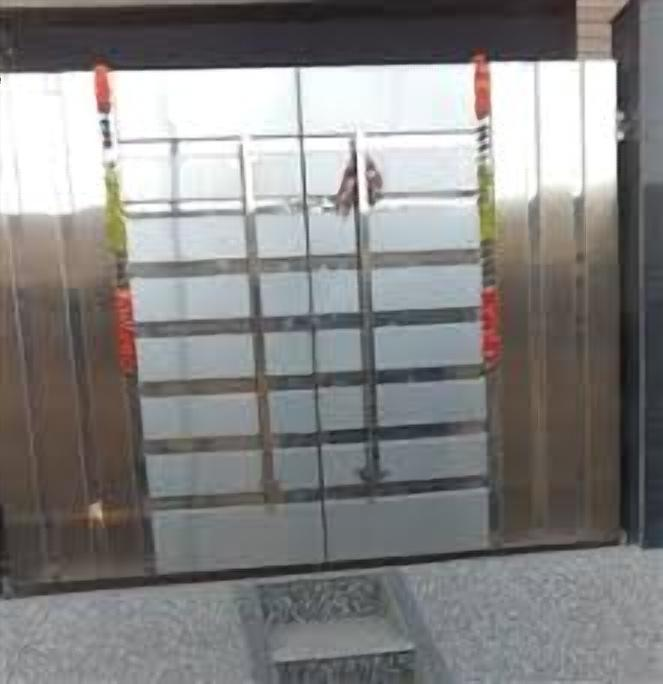Gate: (0, 51, 626, 595)
